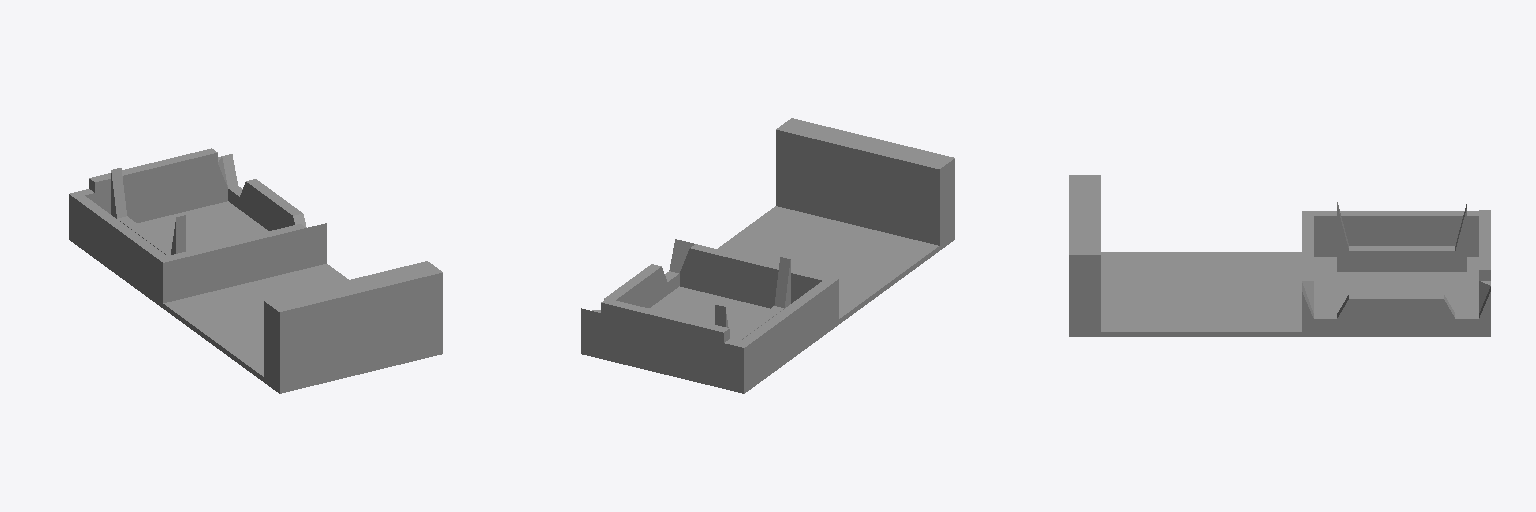
File: prueba.obj
3 views of the same model, side by side, from view 1: azimuth 30°, elevation 25°; view 2: azimuth 150°, elevation 25°; view 3: azimuth 270°, elevation 25° (orthographic).
Visible parts, largest first — view 1: Cube; view 2: Cube; view 3: Cube.
Boxes of the visible parts, x1,y1,x2,y2 form: Cube: [69, 148, 442, 393]; Cube: [581, 118, 954, 393]; Cube: [1069, 175, 1490, 336].
Bounding box in the file's own units: 65.08 × 31 × 145.